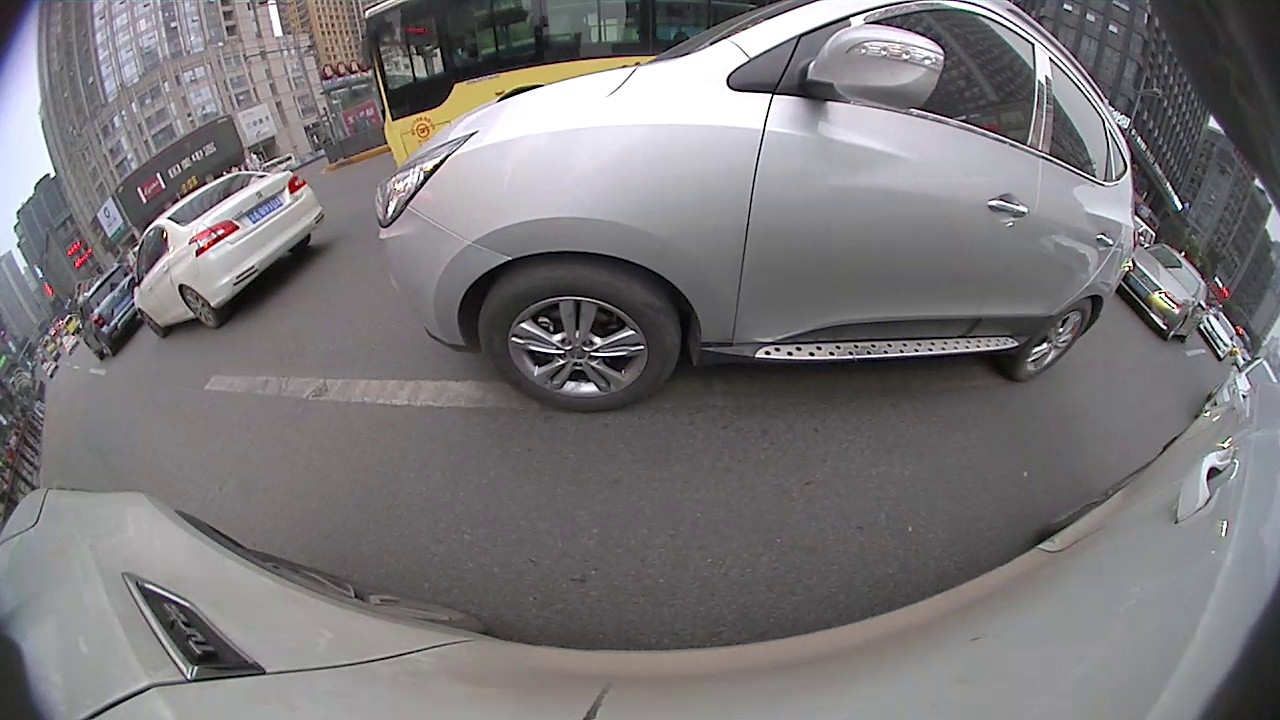bus: (355, 0, 791, 178)
car: (371, 1, 1141, 419), (128, 169, 327, 338), (1116, 241, 1209, 344), (75, 260, 143, 361)
front: (474, 262, 682, 413)
rear: (1010, 296, 1093, 385), (178, 282, 221, 330)
